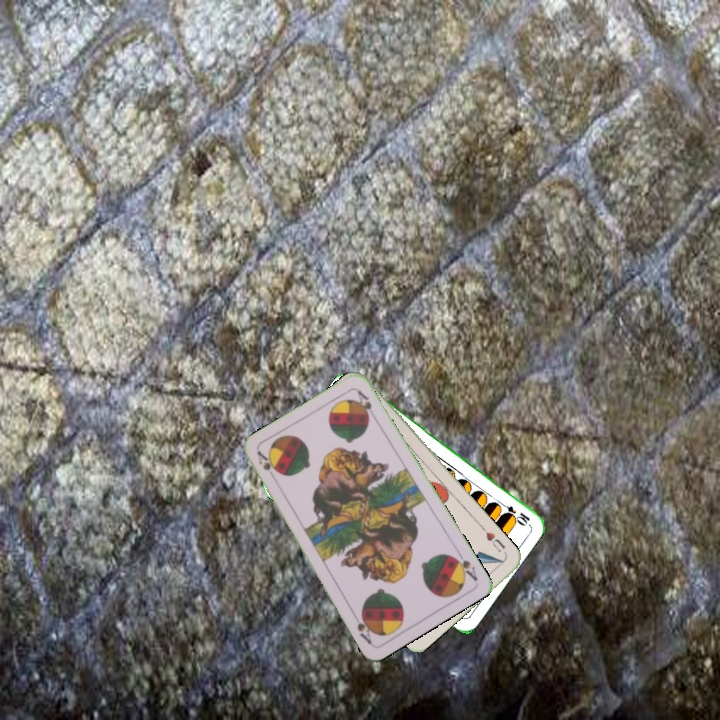E10: (495, 498, 532, 527)
HU: (482, 528, 508, 554)
SA: (448, 546, 480, 583), (253, 447, 278, 484)
